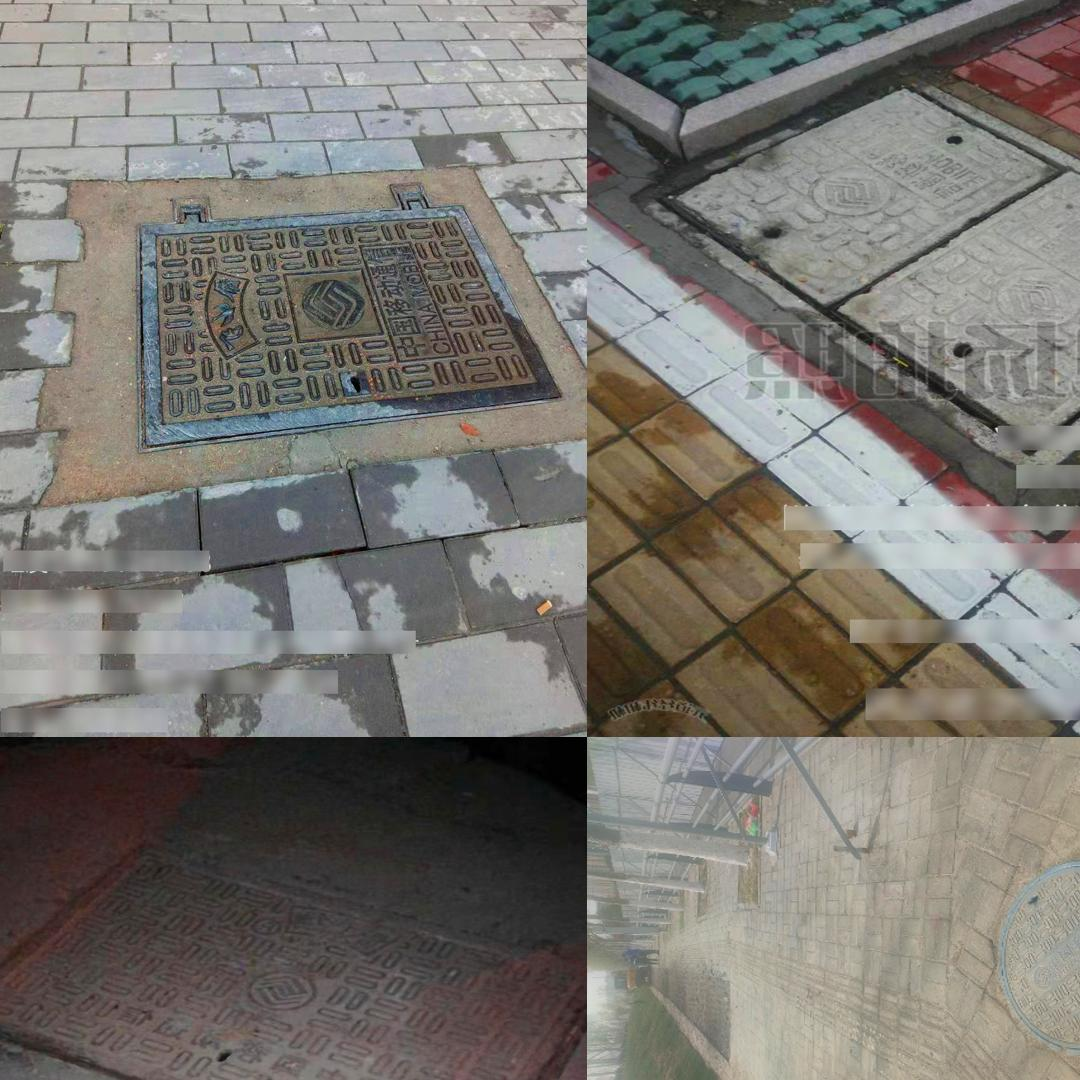good: (0, 841, 586, 1080), (712, 108, 1080, 424), (135, 187, 566, 452), (999, 860, 1080, 1053)
